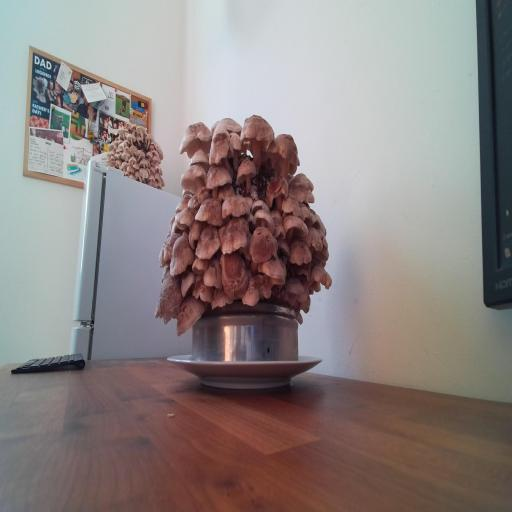Shiitake Mushroom: (227, 100, 285, 172), (260, 122, 309, 189), (161, 284, 220, 337), (153, 229, 207, 282), (192, 152, 243, 202), (182, 218, 232, 268), (152, 265, 188, 330), (232, 268, 281, 310), (170, 156, 217, 199), (171, 118, 219, 160), (188, 192, 232, 230), (216, 211, 252, 257), (219, 249, 250, 301), (153, 222, 184, 273), (247, 222, 279, 265), (181, 180, 218, 216), (232, 151, 261, 194), (297, 222, 332, 257), (208, 131, 235, 176), (189, 271, 218, 310), (284, 179, 321, 209), (280, 208, 309, 246), (168, 203, 203, 234), (172, 263, 202, 299), (233, 230, 263, 266), (182, 213, 208, 251), (248, 206, 281, 233), (266, 173, 289, 211), (258, 255, 287, 285), (293, 201, 321, 232), (220, 193, 254, 218), (206, 284, 237, 310), (282, 271, 306, 303), (170, 190, 197, 217), (289, 237, 313, 267), (211, 179, 240, 203), (203, 257, 222, 290), (271, 233, 296, 257), (230, 129, 244, 171), (308, 265, 332, 289), (288, 172, 315, 193), (212, 117, 242, 135), (189, 255, 213, 277), (294, 282, 314, 307), (190, 147, 210, 171), (314, 225, 331, 253), (282, 193, 301, 218), (268, 203, 285, 229), (250, 197, 271, 214), (168, 220, 183, 240), (294, 263, 311, 280), (166, 212, 176, 235), (312, 249, 329, 260), (317, 224, 330, 238), (274, 224, 286, 239), (313, 215, 323, 231), (308, 281, 322, 292)
